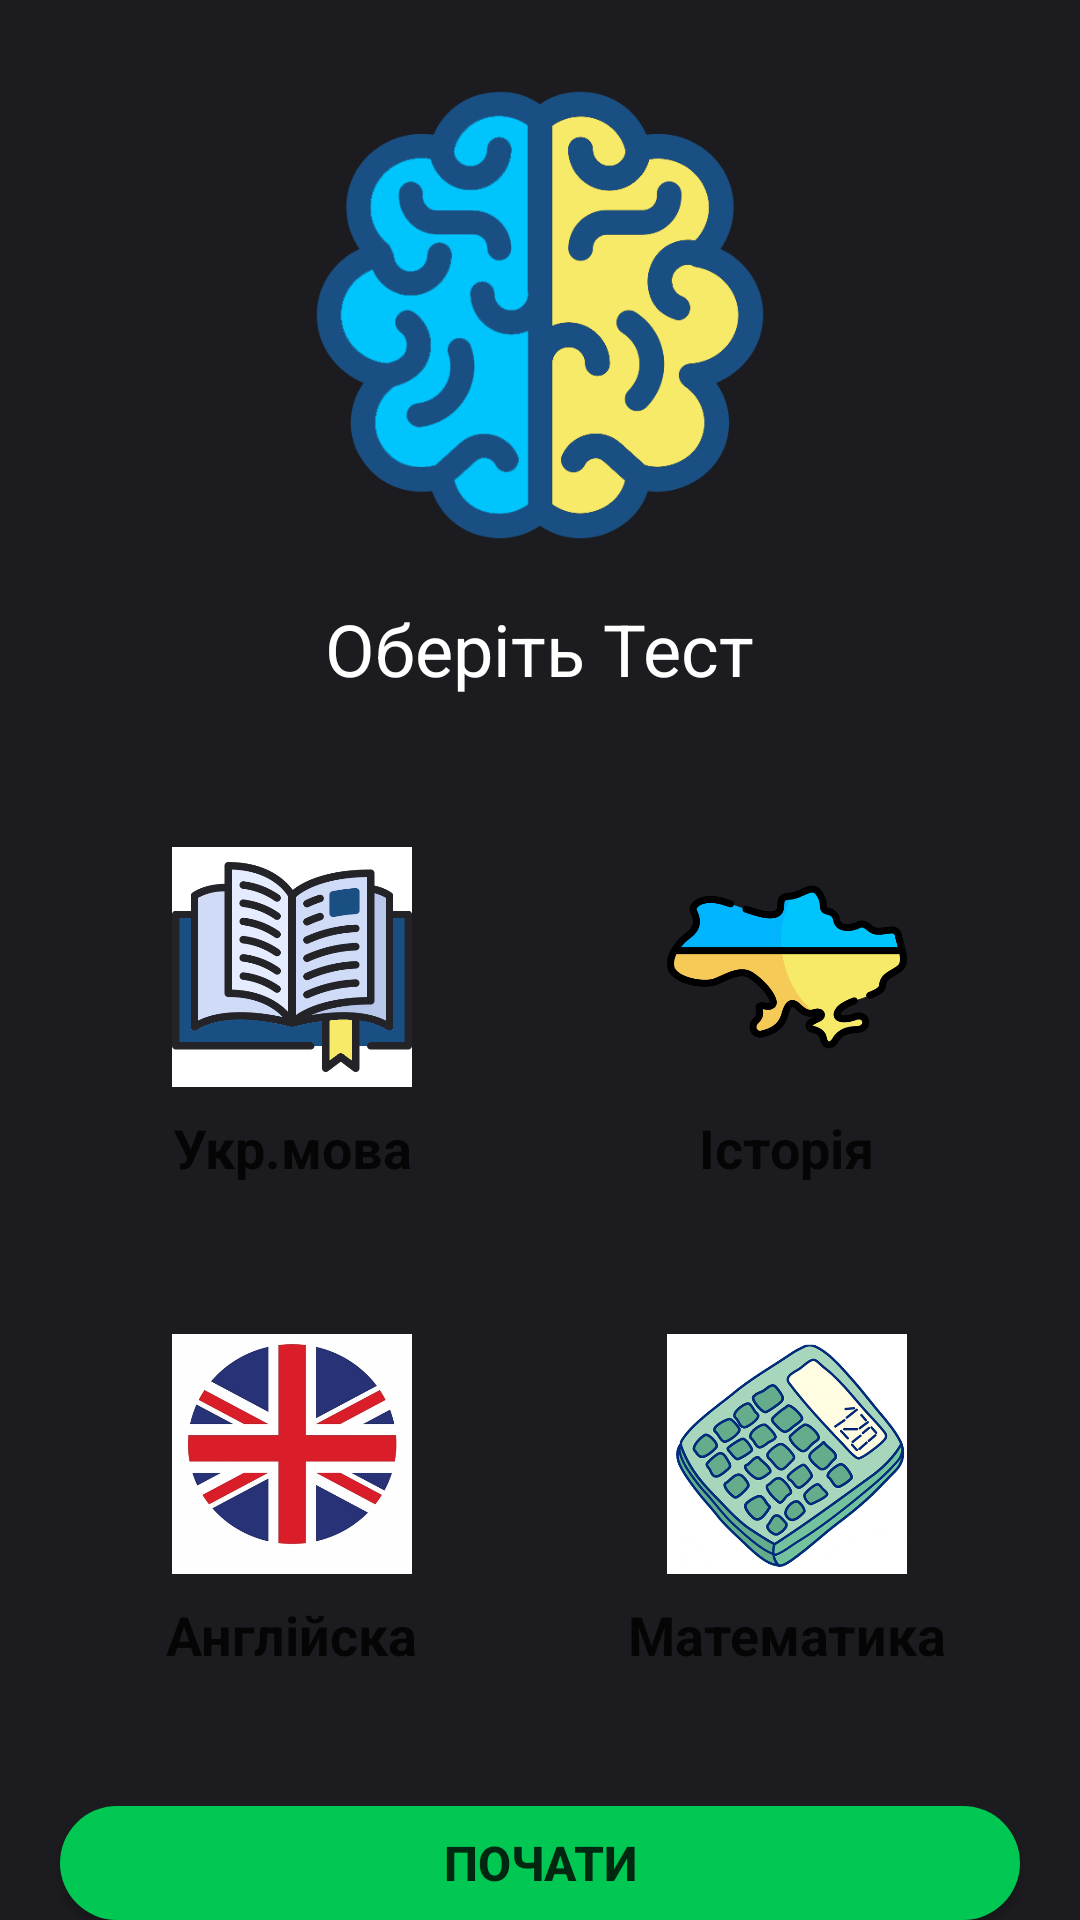

Point at icon controls on the screen. Image size 1080w x 1920h, points as (x=x, y=y).
bookua: (x=292, y=967)
